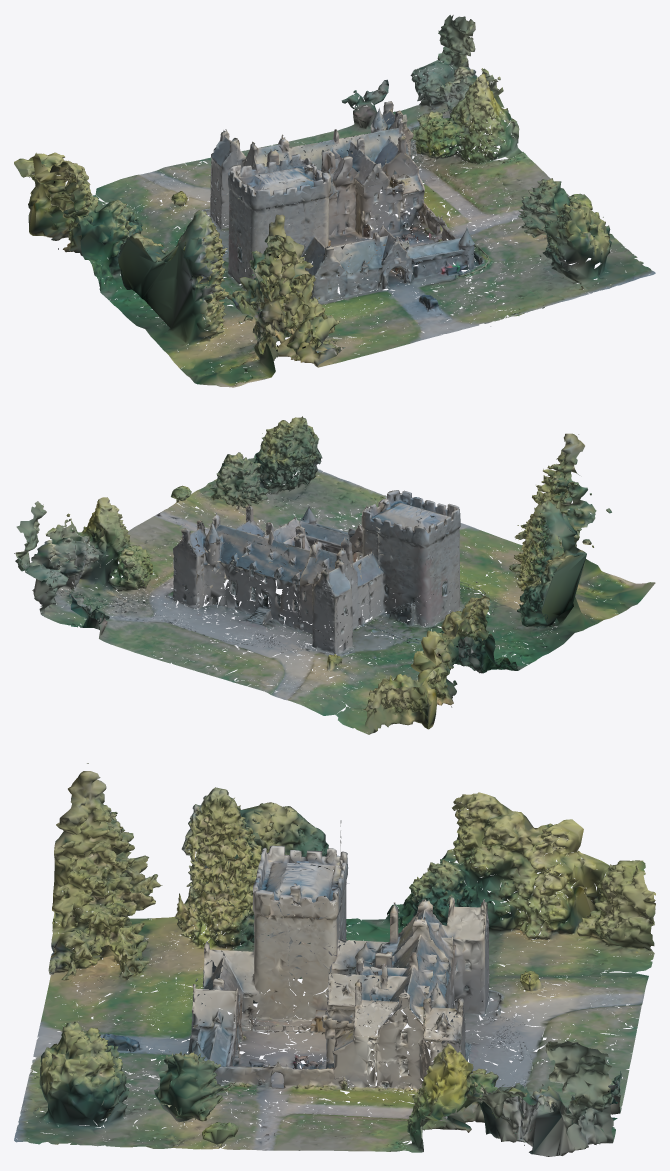
File: castillo.glb
3 renders of one model, top to bottom at view 1: azimuth 30°, elevation 25°; view 2: azimuth 150°, elevation 25°; view 3: azimuth 270°, elevation 25°, orthographic. The views are drawn at different scales.
Parts seen in each view (by area): view 1: Object_2, Object_6, Object_3, Object_8, Object_18, Object_5, Object_4, Object_16, Object_7, Object_14, Object_9, Object_10 (+7 smaller); view 2: Object_2, Object_4, Object_13, Object_5, Object_9, Object_12, Object_8, Object_7, Object_20, Object_14, Object_3, Object_11 (+7 smaller); view 3: Object_3, Object_20, Object_4, Object_2, Object_6, Object_10, Object_16, Object_5, Object_7, Object_8, Object_17, Object_14 (+7 smaller).
Boxes of the visible parts, x1,y1,x2,y2 form: Object_2: (28,60,655,357); Object_6: (220,177,563,355); Object_3: (282,109,574,248); Object_8: (180,15,512,387); Object_18: (229,172,608,339); Object_5: (32,144,499,314); Object_4: (95,116,391,253); Object_16: (169,214,362,387); Object_7: (124,199,623,358); Object_14: (179,178,615,323); Object_9: (288,69,519,170); Object_10: (379,101,574,241); Object_2: (23,442,611,729); Object_4: (172,499,419,715); Object_13: (195,458,441,688); Object_5: (276,508,527,734); Object_9: (46,497,232,659); Object_12: (172,522,383,678); Object_8: (14,480,655,615); Object_7: (178,437,604,656); Object_20: (342,596,493,733); Object_14: (181,452,576,565); Object_3: (150,492,385,643); Object_11: (196,497,389,629); Object_3: (214,895,519,1149); Object_20: (386,792,655,1004); Object_4: (278,866,648,1068); Object_2: (14,802,629,1156); Object_6: (31,864,302,1091); Object_10: (231,982,516,1151); Object_16: (52,763,177,1006); Object_5: (117,819,654,1094); Object_7: (38,810,358,1149); Object_8: (52,812,612,1150); Object_17: (14,889,270,1146); Object_14: (30,787,253,1148).
Size of the model in its own units: 19.87 by 6.45 by 18.93.
